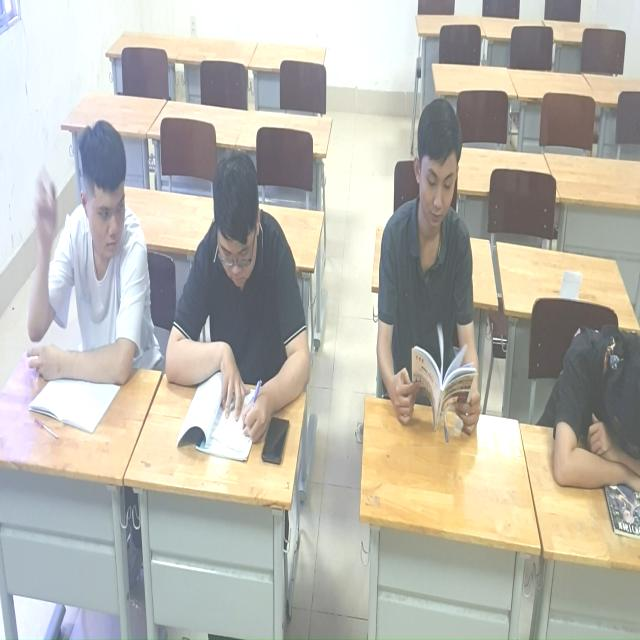raise_hand: (29, 120, 145, 427)
read: (152, 139, 312, 457), (359, 86, 487, 470)
sleep: (541, 295, 640, 524)
